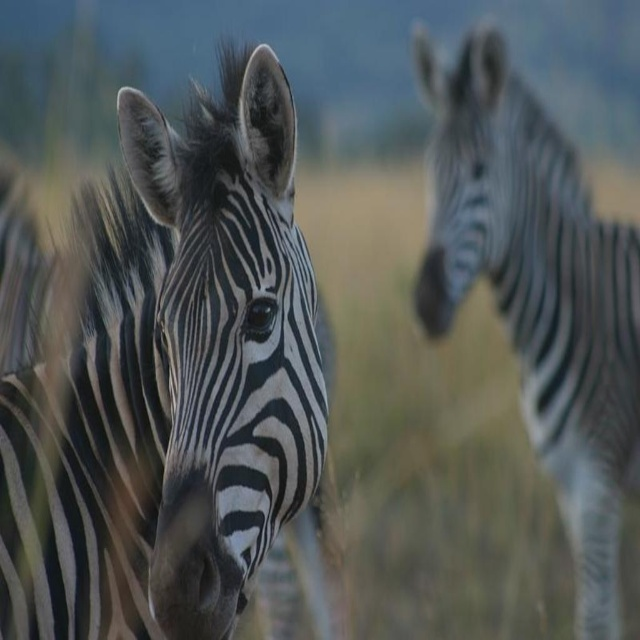Zebra: (0, 28, 330, 640)
